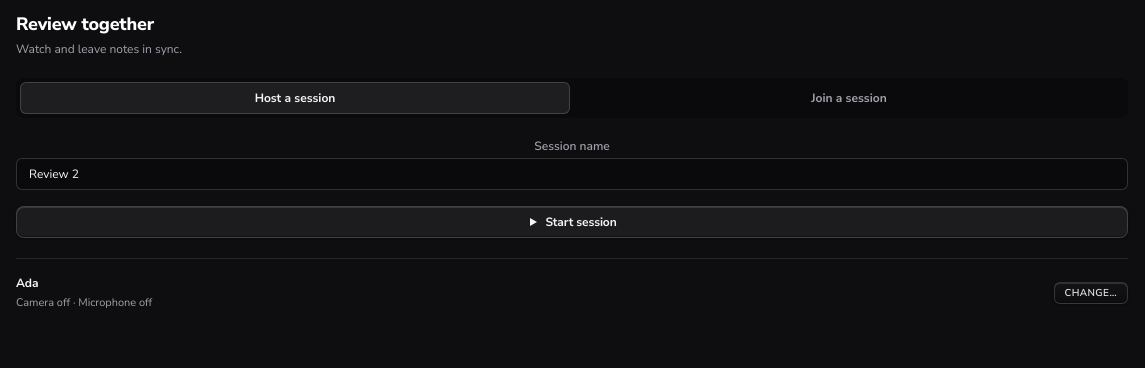
Test case: session names › blocks an intentional duplicate and offers a one-click suggestion
Replace the text in the field labelled "Session name" with " review " at (572, 174), box [16,158,1128,190]
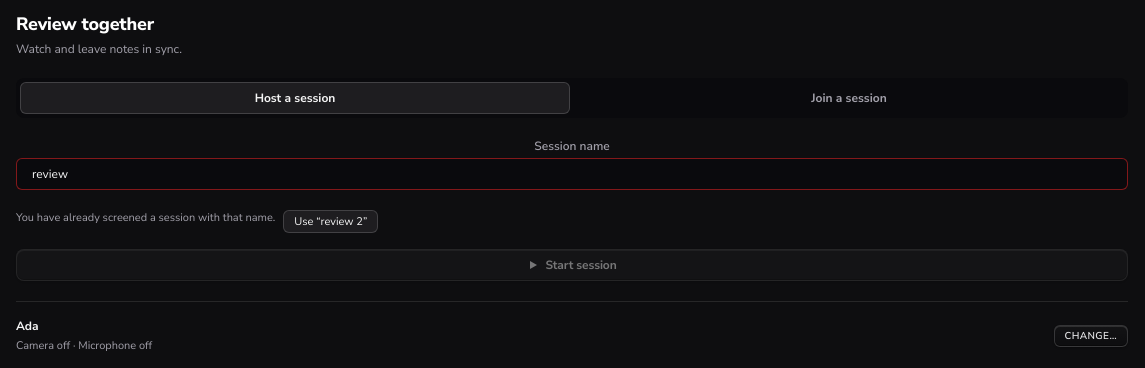
Result: the button "Start session" is disabled at [16,249,1128,281]
Press Enter in the field labelled "Session name", box [16,158,1128,190]
Click the button "Use “review 2”" at (331, 222), box [283,210,378,233]
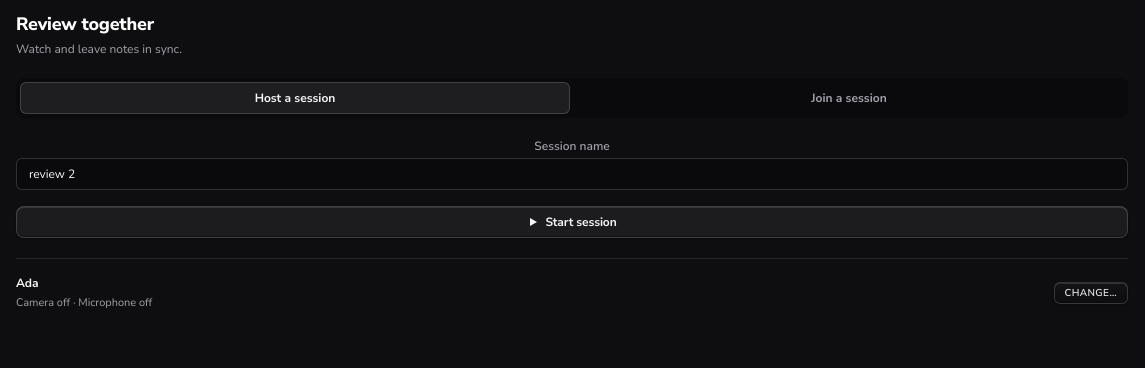
Result: the button "Start session" is enabled at [16,206,1128,238]
